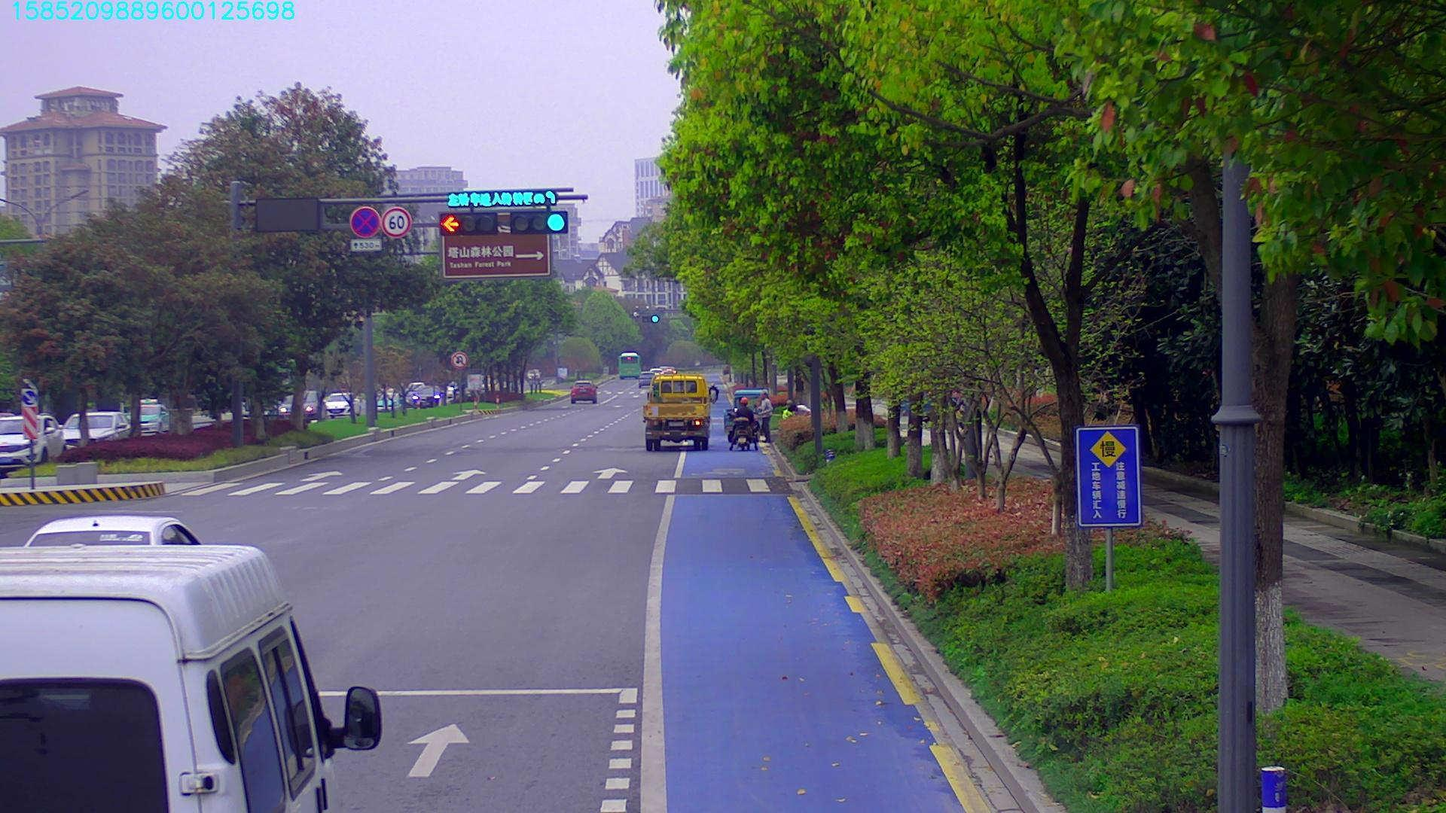green: (511, 211, 573, 236)
red: (441, 209, 501, 236)
wait_on: (448, 189, 552, 205)
